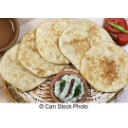poori: (59, 20, 115, 65), (1, 44, 48, 89), (35, 19, 81, 64), (20, 30, 66, 74), (85, 43, 128, 89)
